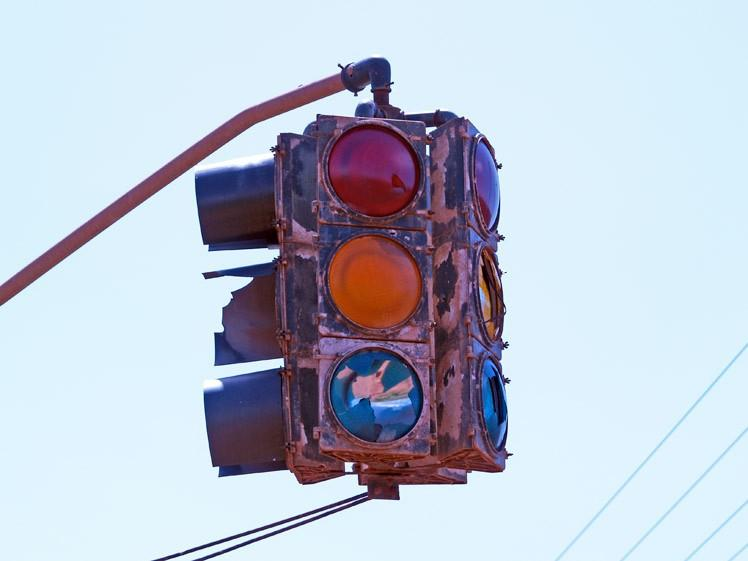off traffic light: (196, 57, 508, 498)
